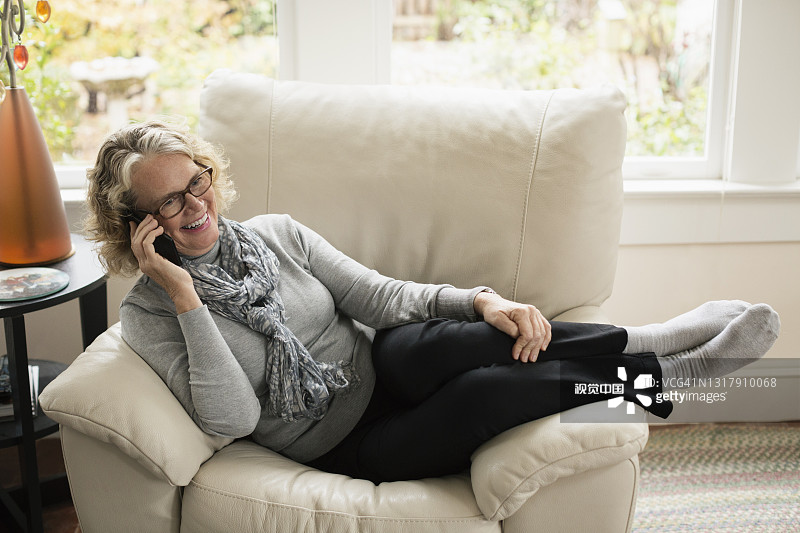calling: (104, 211, 210, 312)
no-phone: (453, 271, 569, 374)
